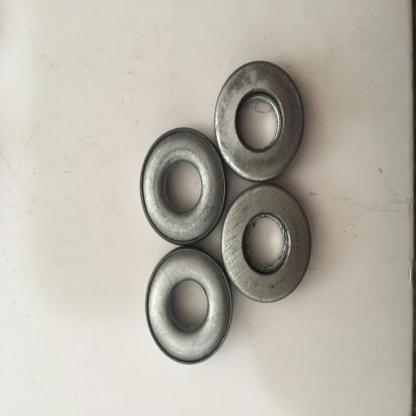FOD: (140, 124, 226, 244)
